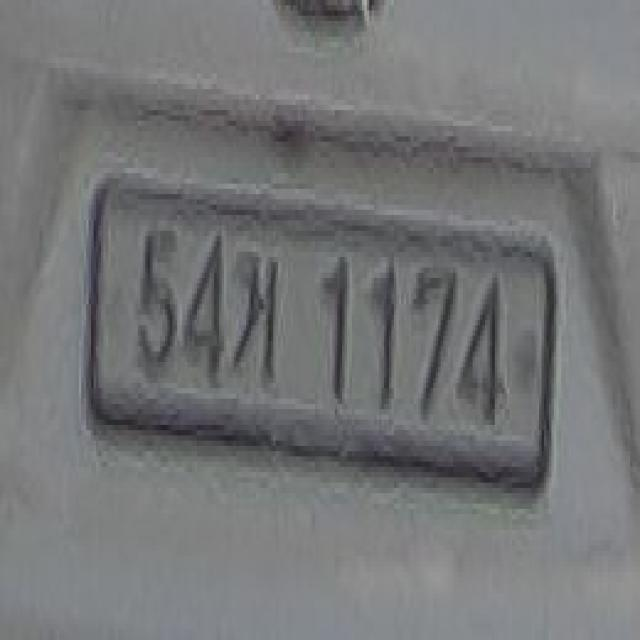1: (312, 247, 360, 430), (357, 246, 404, 419)
4: (458, 257, 512, 435), (182, 205, 232, 388)
5: (130, 210, 180, 378)
7: (406, 257, 458, 430)
geo: (224, 236, 290, 383)
license_plate: (71, 178, 559, 530)
